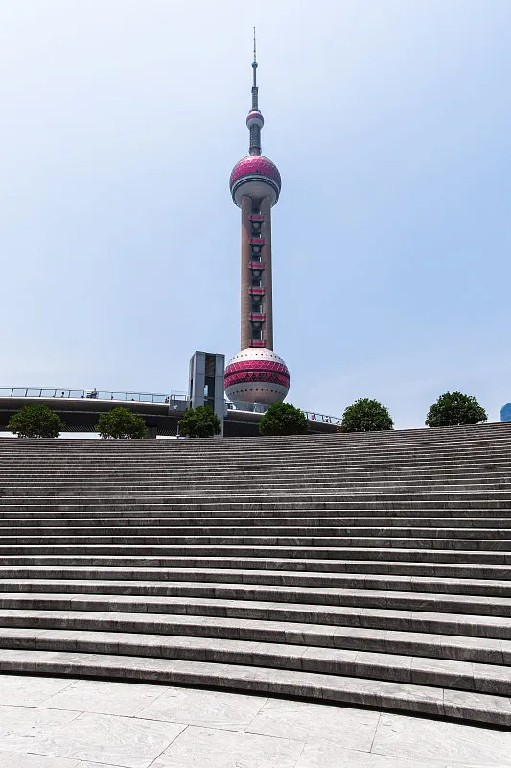Oriental: (223, 26, 291, 407)
